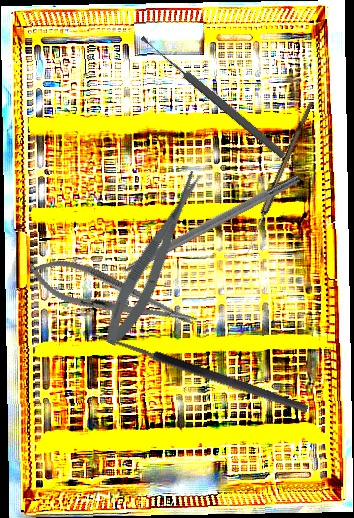Hook Surgical: (97, 171, 302, 288), (86, 329, 310, 425)
Micro Scissor: (94, 166, 215, 352)
Needle Holder: (21, 247, 203, 344)
Surgical Spoon: (138, 32, 293, 165), (243, 100, 314, 256)
